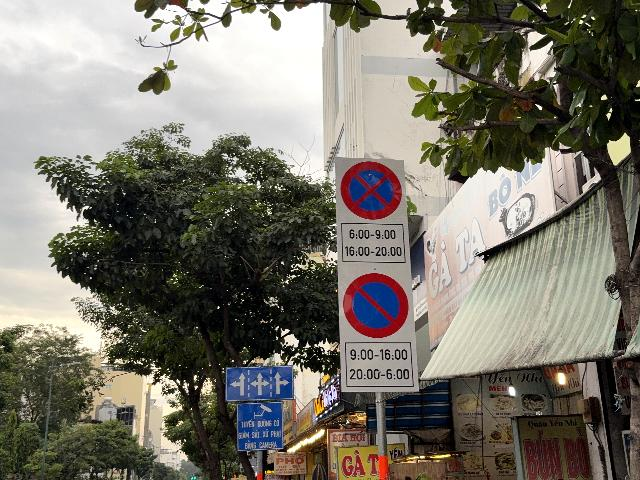cam-do-xe: (343, 272, 408, 339)
cam-dung-va-do-xe: (341, 160, 404, 219)
